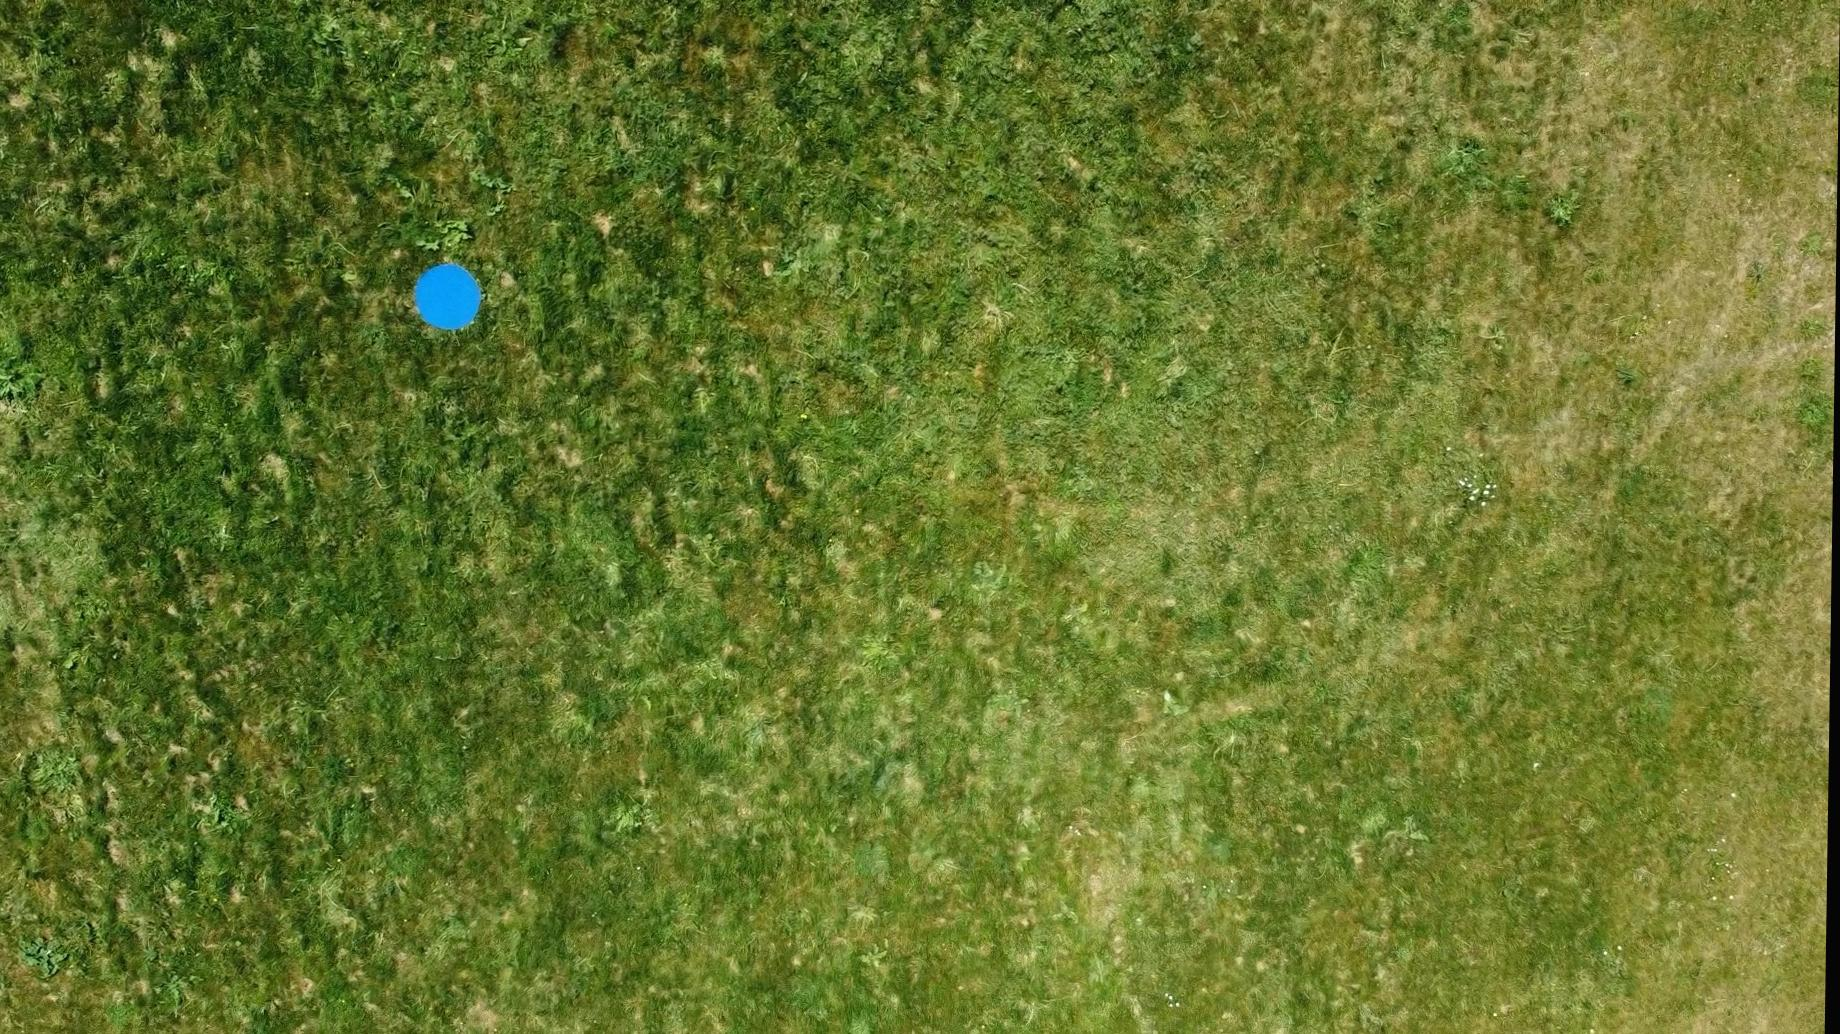Blue: (411, 262, 487, 332)
